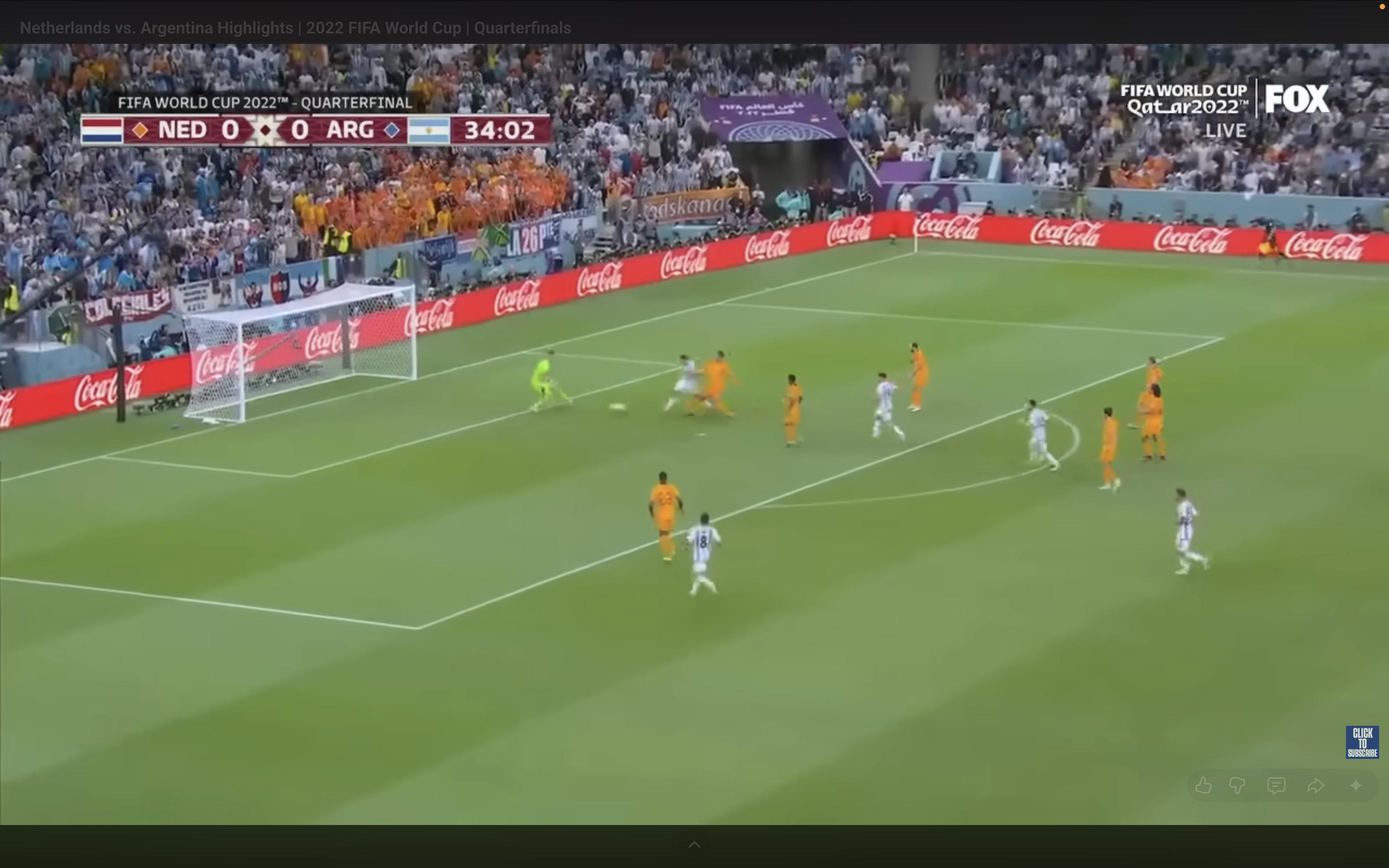ball: (609, 403, 627, 412)
goalkeeper: (531, 350, 572, 411)
player: (649, 472, 683, 562), (1176, 489, 1209, 575), (687, 513, 721, 596), (1022, 400, 1060, 471), (699, 351, 737, 417), (1129, 356, 1163, 429), (872, 373, 905, 440), (664, 355, 700, 415), (1140, 383, 1166, 461), (1100, 407, 1121, 491), (783, 374, 803, 446), (910, 343, 929, 412)
referee: (1257, 221, 1288, 262)
